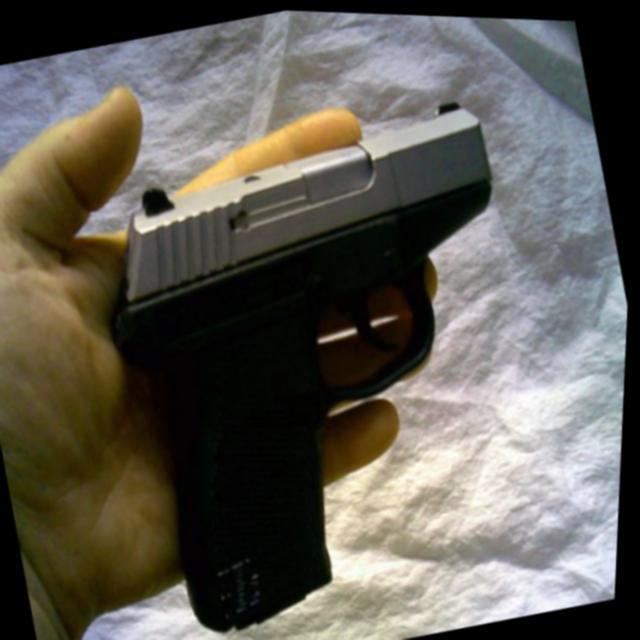weapon: (63, 75, 586, 640)
